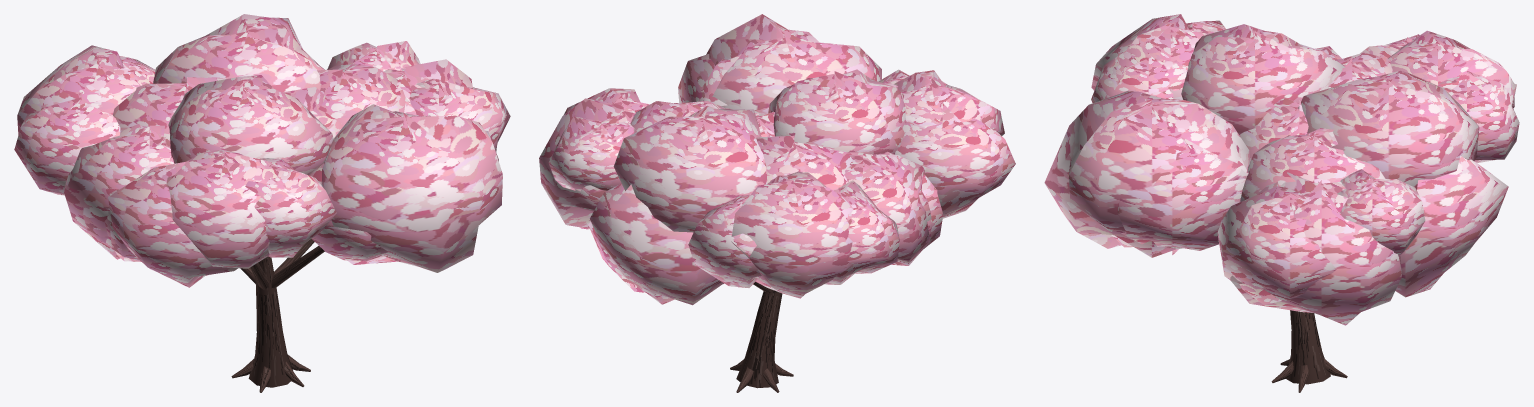
File: tree_japanese_sakura.glb
3 views of the same model, side by side, from view 1: azimuth 30°, elevation 25°; view 2: azimuth 150°, elevation 25°; view 3: azimuth 270°, elevation 25° (orthographic). The views are drawn at different scales.
Visible parts, largest first — view 1: canopy, trunk; view 2: canopy, trunk; view 3: canopy, trunk.
Part boxes in pixels (left/top/right/bottom): canopy: left=14, top=14, right=510, bottom=287; trunk: left=231, top=239, right=324, bottom=392; canopy: left=539, top=14, right=1015, bottom=305; trunk: left=730, top=282, right=793, bottom=392; canopy: left=1044, top=14, right=1519, bottom=325; trunk: left=1271, top=310, right=1347, bottom=392.
Bounding box in the file's own units: 10.73 × 7.76 × 10.35.
2 materials, 2 textured.
